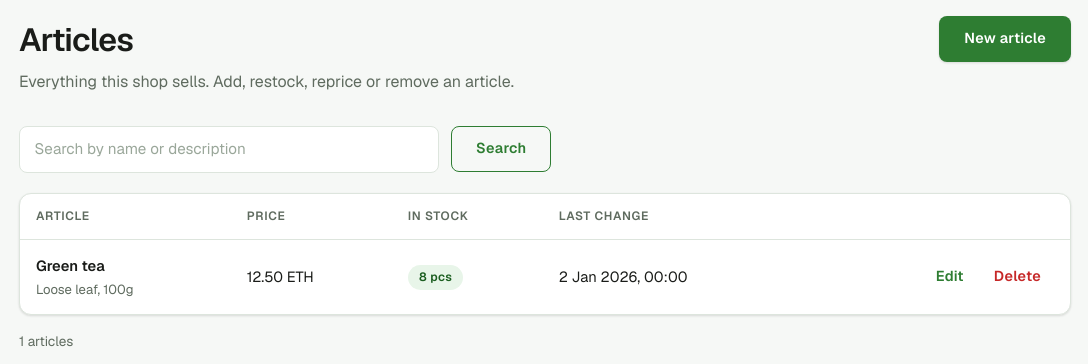
AdminArticlesPage › searching › says so when nothing matched, instead of looking empty
Type "rooibos" into the search field named "Search articles" at (229, 149), box x1=19 y1=126 x2=439 y2=173
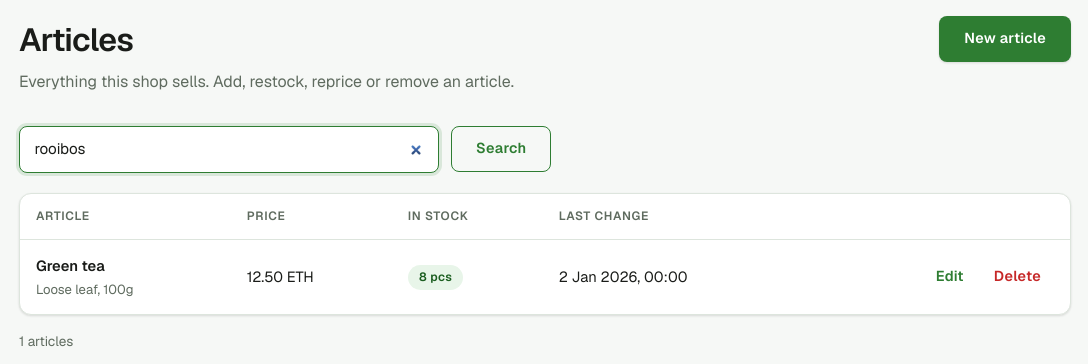
Click the button "Search" at (501, 149), box x1=451 y1=126 x2=552 y2=172
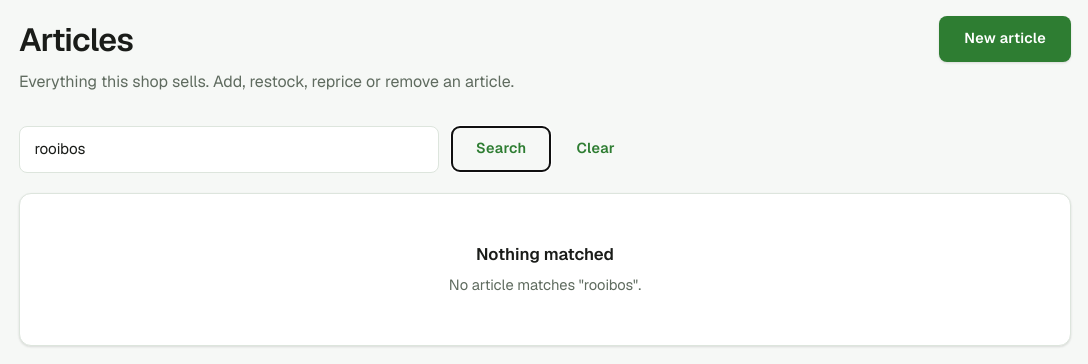
Check: the text "Nothing matched" is shown, box x1=476 y1=243 x2=614 y2=265
Check: the text "No article matches \"rooibos\"." is shown, box x1=449 y1=275 x2=641 y2=294
